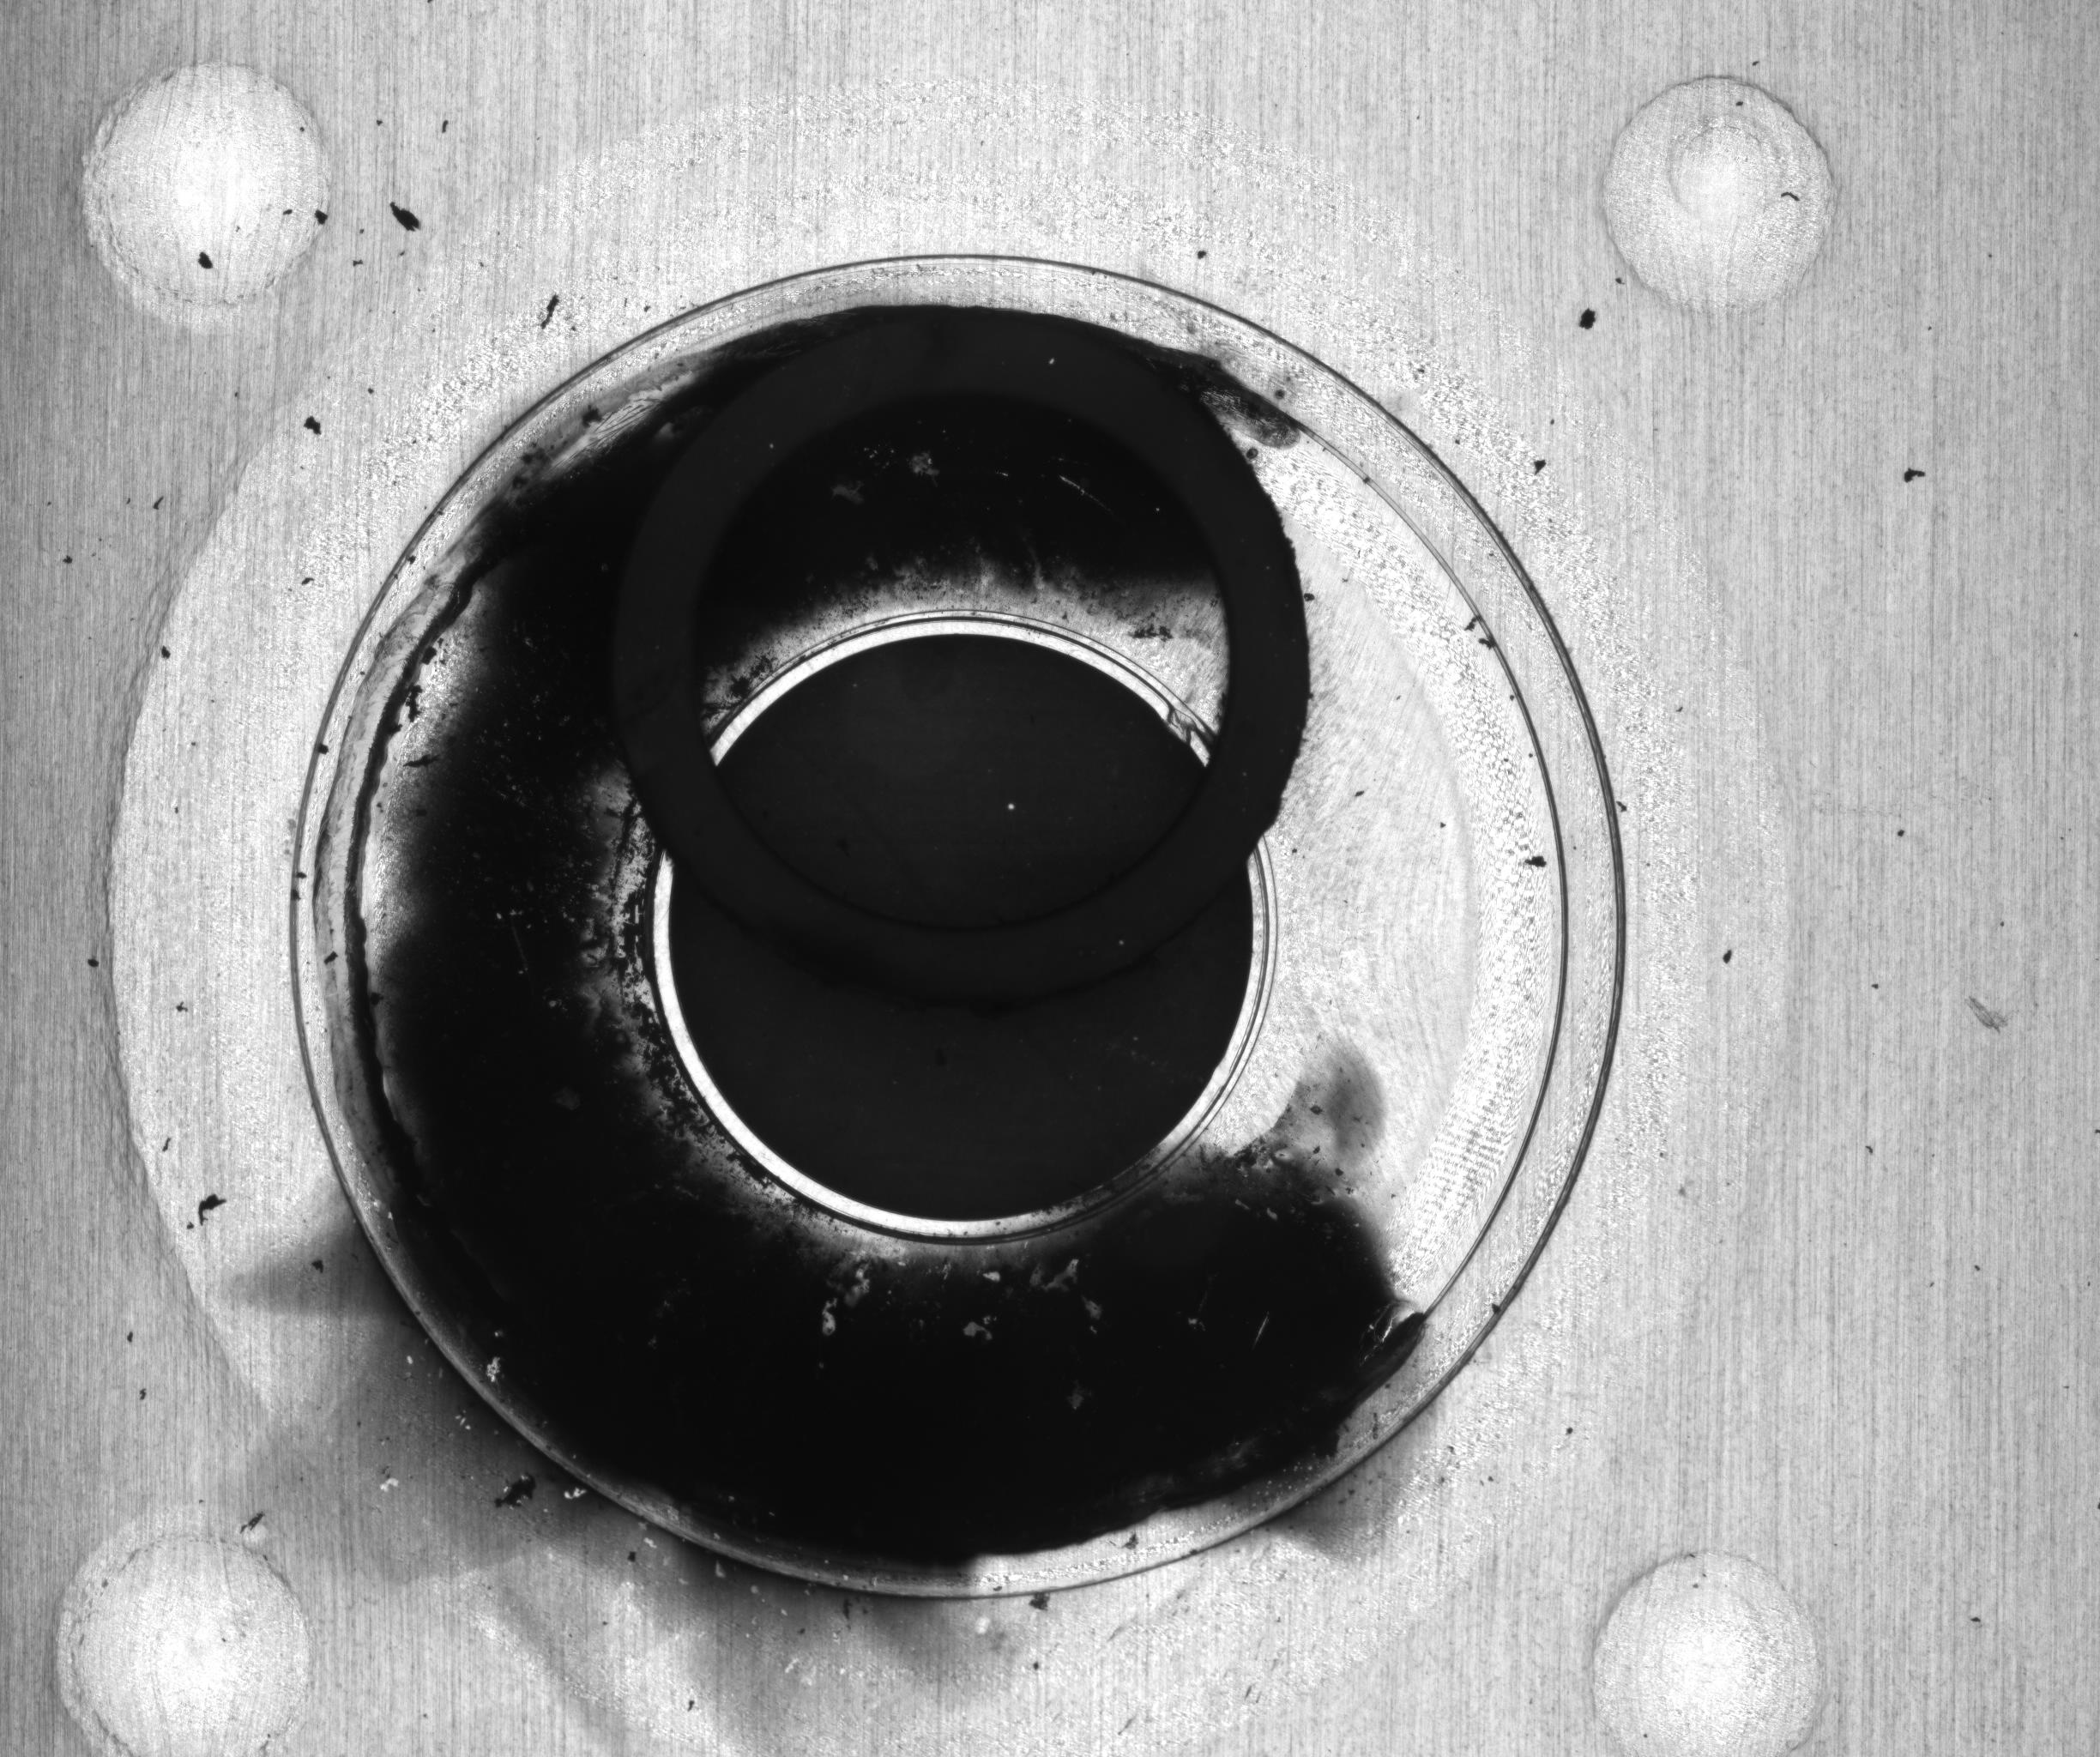burn: (351, 338, 1444, 1560)
